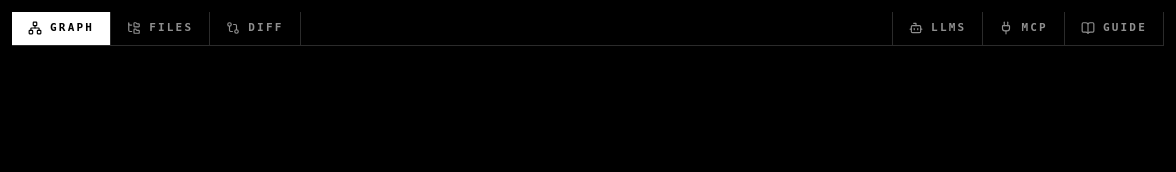
Test: InsightPane tabs › lazily mounts the MCP tab only after it is first opened, pre-filled with the workspace
The image size is (1176, 172).
Click the tab with test id "insight-tab-mcp". click: (1024, 28)
box: [983,12,1065,44]
(page scrolled)
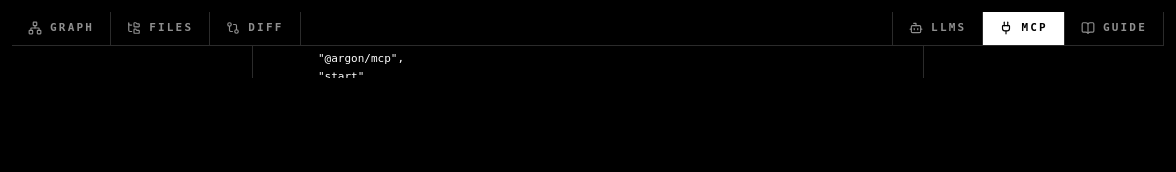
Check: the element with test id "mcp-setup-panel" is shown, box [12,46,1164,78]
